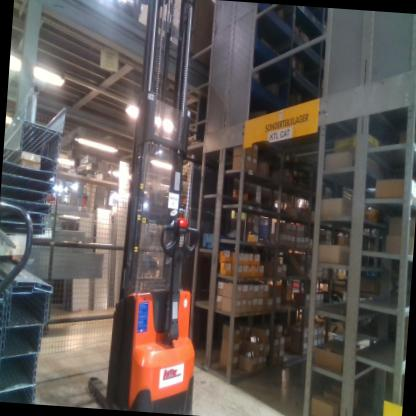pallet_truck: (86, 0, 222, 414), (0, 194, 37, 321)
small_load_carrier: (201, 233, 213, 249)
